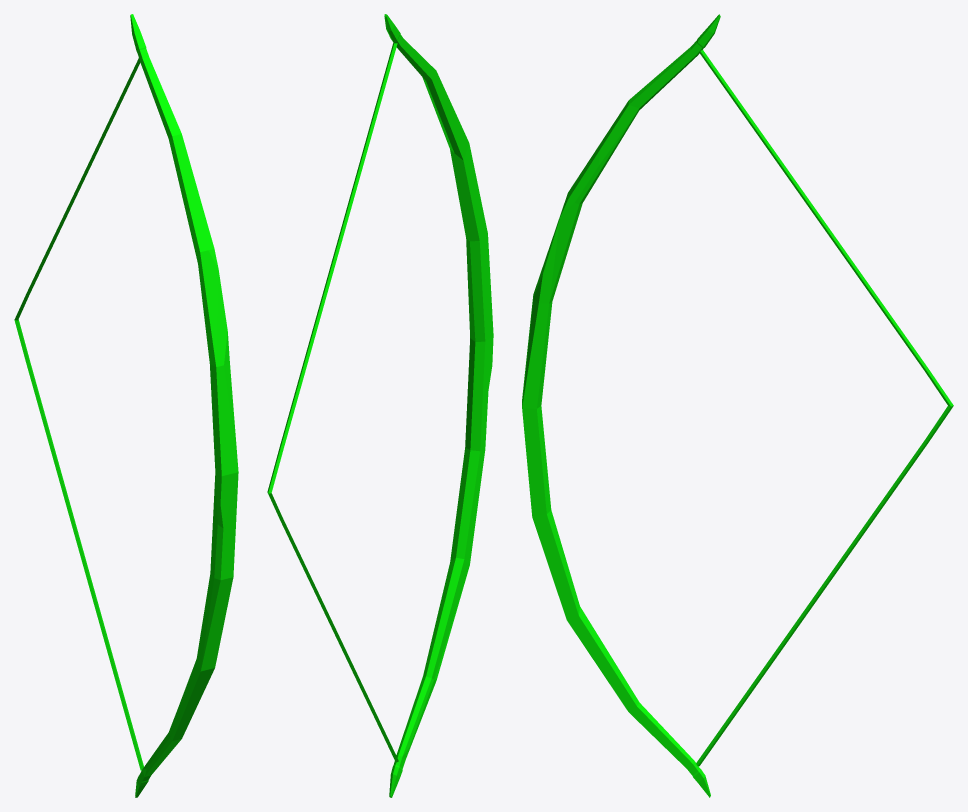
File: SM_Bow_Long_Drawn_Fantasy.fbx
3 views of the same model, side by side, from view 1: azimuth 30°, elevation 25°; view 2: azimuth 150°, elevation 25°; view 3: azimuth 270°, elevation 25° (orthographic).
Visible parts, largest first — view 1: bow-long-drawn-fantasy; view 2: bow-long-drawn-fantasy; view 3: bow-long-drawn-fantasy.
Boxes of the visible parts, <box> form: bow-long-drawn-fantasy: <box>14,14,238,797</box>; bow-long-drawn-fantasy: <box>267,14,493,797</box>; bow-long-drawn-fantasy: <box>522,14,953,797</box>.
Bounding box in the file's own units: 0.04 × 1.78 × 0.8894.
